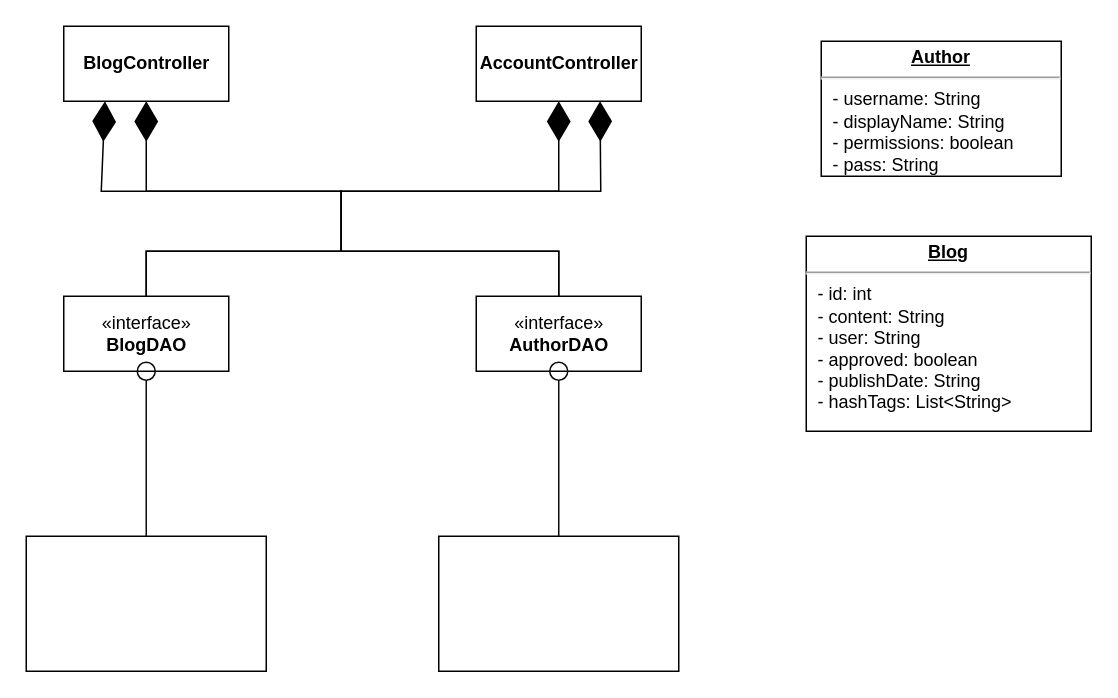
The diagram is 1118 pixels wide and 698 high, and some of its shapes have lost their labels. The centre of each missing label's shape, as x and y in pixels:
"AuthorDAODB" belongs at [558,603].
"BlogDAODB" belongs at [145,603].
